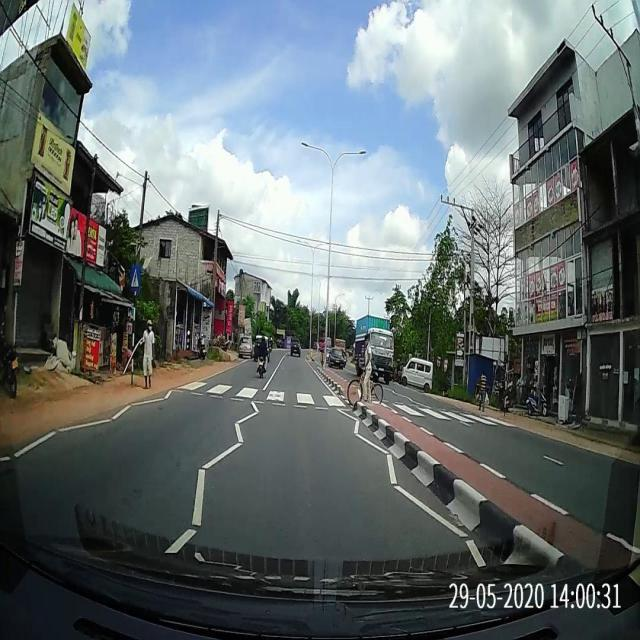Crosswalk: (166, 378, 525, 429)
